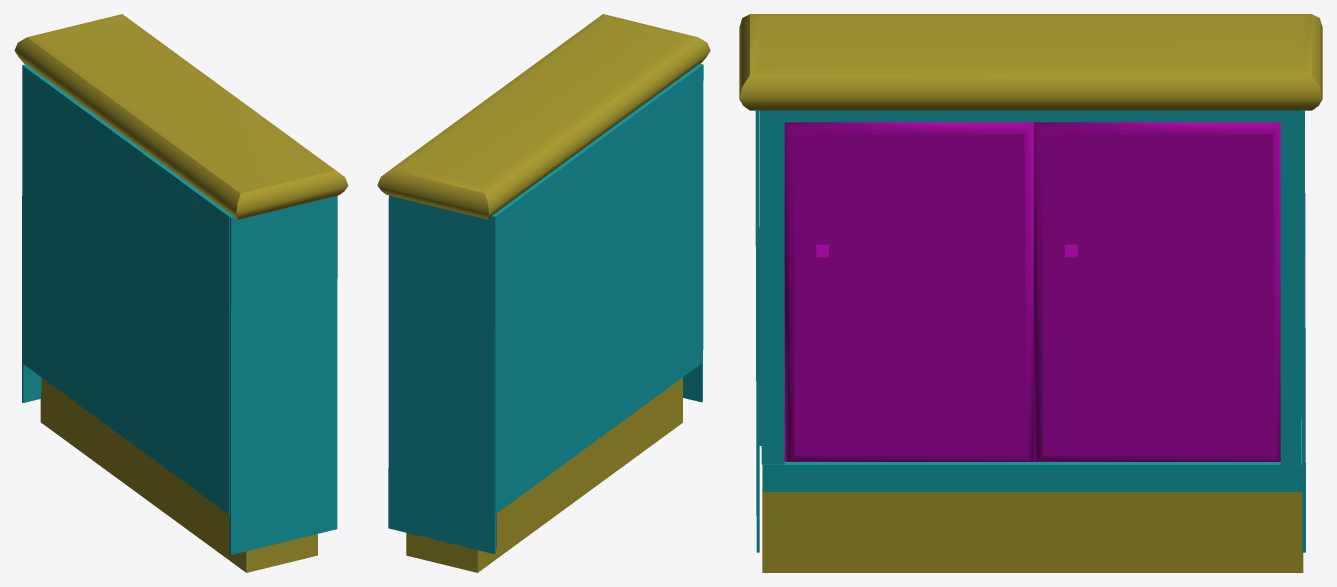
Rendered from freezer.fbx.
3 views of the same model, side by side, from view 1: azimuth 30°, elevation 25°; view 2: azimuth 150°, elevation 25°; view 3: azimuth 270°, elevation 25° (orthographic). The views are drawn at different scales.
Parts seen in each view (by area): view 1: polySurface30; view 2: polySurface30; view 3: polySurface30.
Part boxes in pixels (x1,y1,x2,y2): polySurface30: (14, 14, 348, 572); polySurface30: (377, 14, 710, 572); polySurface30: (739, 14, 1322, 572).
Bounding box in the file's own units: 4.55 × 14.37 × 14.91.
